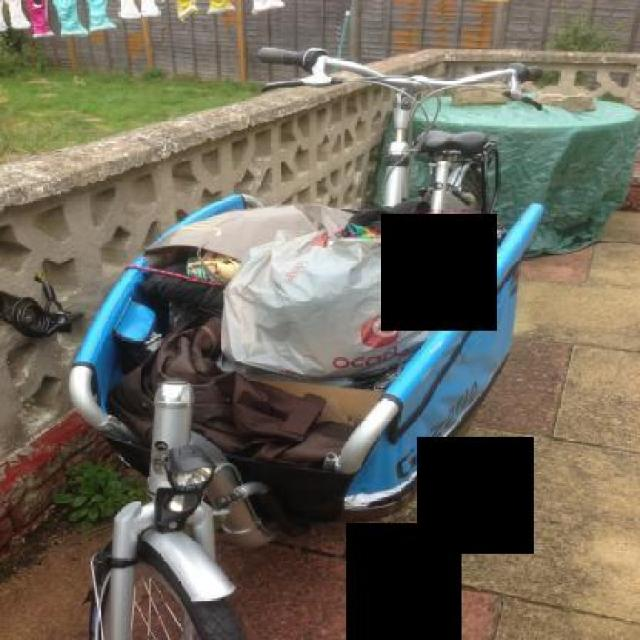plastic bag: (220, 228, 452, 380)
